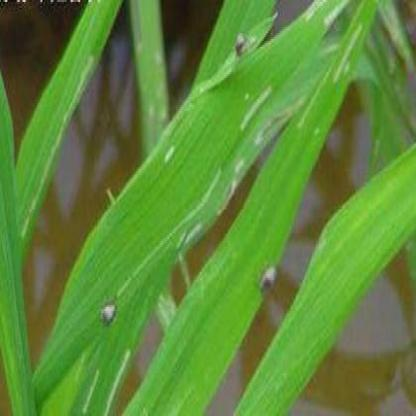rice-bug: (233, 29, 253, 57), (260, 264, 280, 292), (98, 298, 118, 326)
